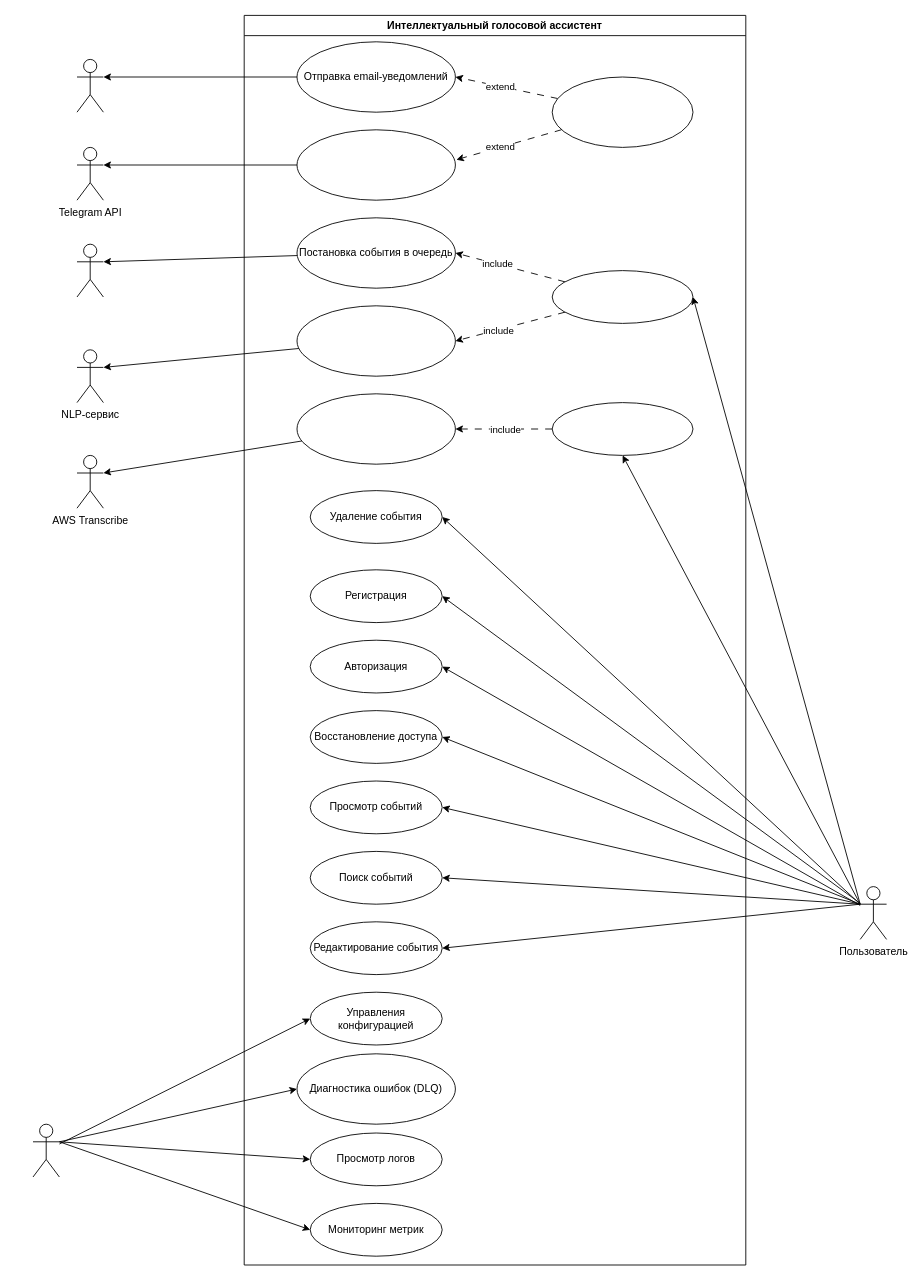
The diagram is 923 pixels wide and 1280 high, and some of its shapes have lost their labels. The centre of each missing label's shape, as x and y in pixels:
"Запись голосового сообщения" belongs at point 622,428.
"Отправка уведомлений в телеграм" belongs at point 375,164.
"Почтовый сервер" belongs at point 89,85.
"Разработчик" belongs at point 45,1150.
"Семантический анализ текста" belongs at point 375,340.
"Создание события" belongs at point 622,296.
"Танскрибаия аудио" belongs at point 375,428.
"Управление каналами уведомлений" belongs at point 622,111.
"Шина событий" belongs at point 89,270.
